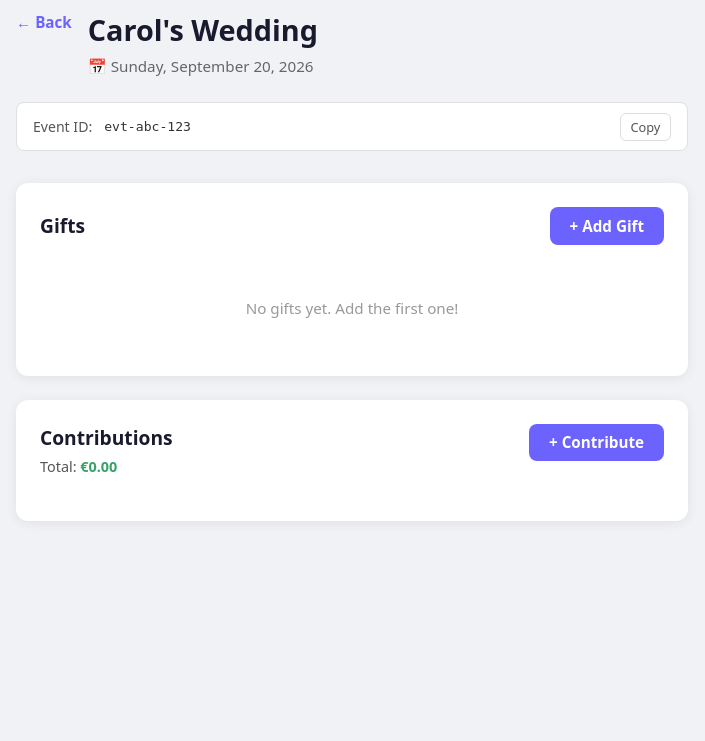
Test: Event Page — gift list › adds a gift with a link and price and shows all details
The width and height of the screenshot is (705, 741).
Click the button with test id "EventPage__addGiftBtn" at [607, 226], box [550,207,664,245]
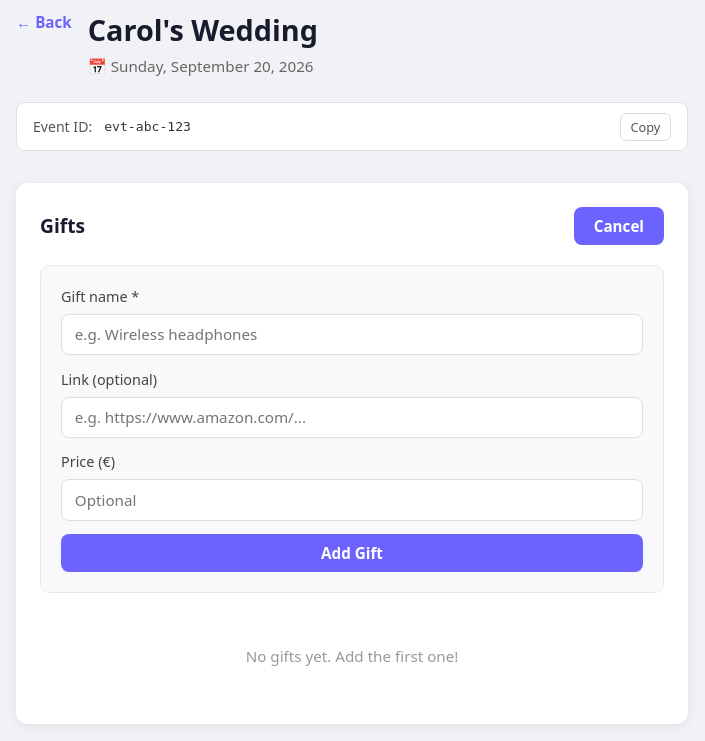
Type "Headphones" into the field with test id "EventPage__giftNameInput" at [352, 335], box [61,314,643,355]
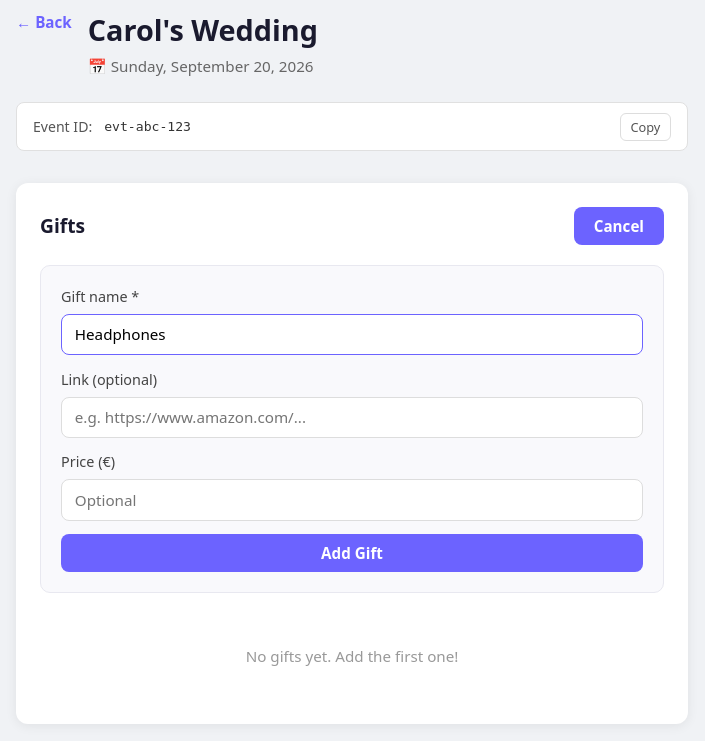
Type "https://www.amazon.com/dp/example" into the field with test id "EventPage__giftLinkInput" at [352, 418], box [61,397,643,438]
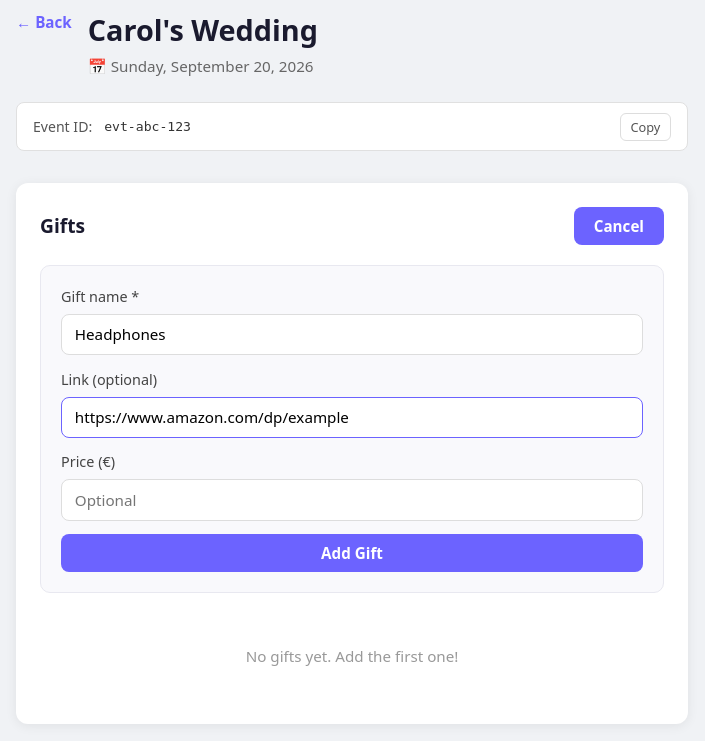
Type "299.99" into the number field with test id "EventPage__giftPriceInput" at [352, 500], box [61,479,643,520]
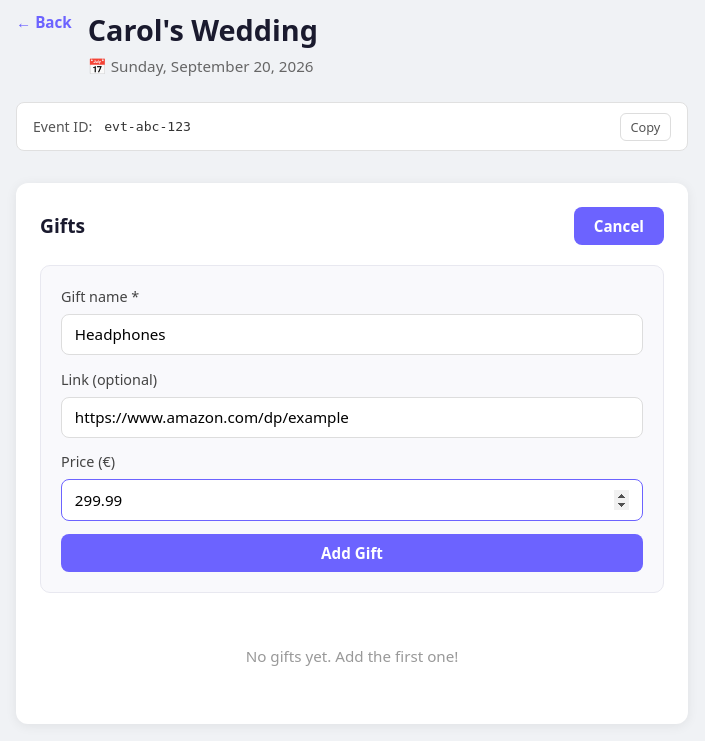
Click the button with test id "EventPage__giftSubmit" at [352, 553], box [61,534,643,572]
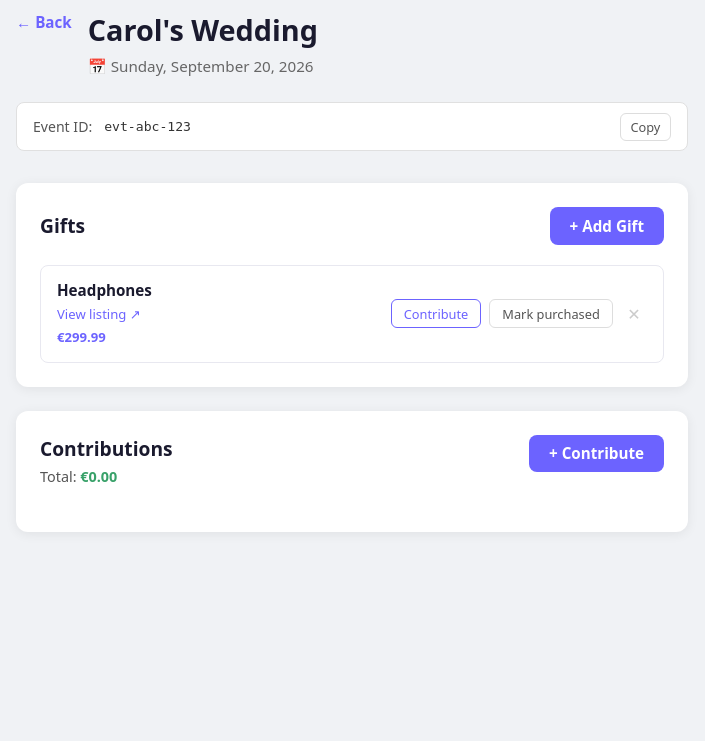
Expected: the text "Headphones" is shown, [57,279,152,302]
Expected: the link with test id "EventPage__giftLink" shows "View listing", [57,305,152,325]
Expected: the text "€299.99" is shown, [57,328,106,346]
